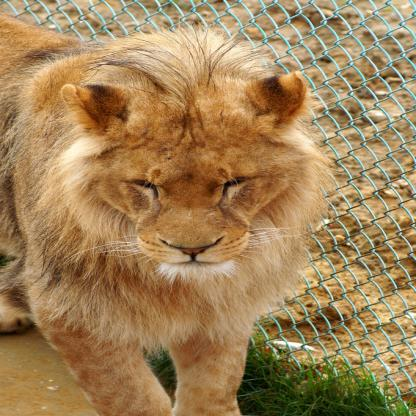lion: (68, 52, 312, 282)
